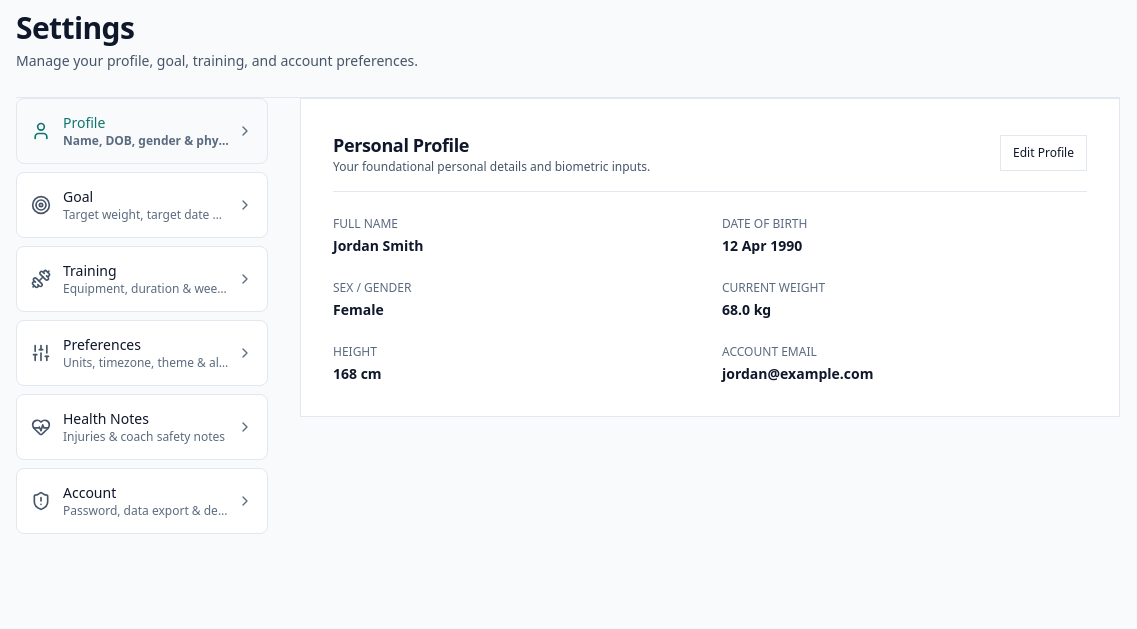
Test: Milestone M9 — Rebuilt Settings Screen (/settings) › navigates to Goal section, validates goal direction and pace, and saves goal update
This screenshot has width=1137, height=629.
expect the text "12 Apr 1990" is shown: met, box [722,236,802,255]
// Switch to Goal tab
Click the button "Goal Target weight, target date & pace": coordinates (142, 205) [16,172,268,238]
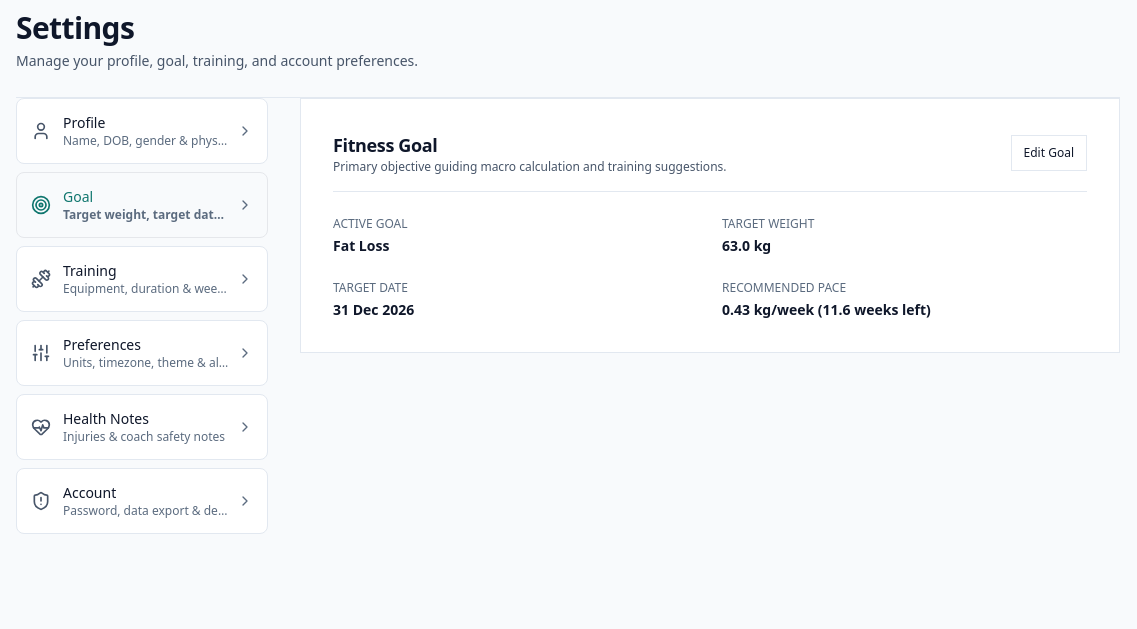
expect the heading "Fitness Goal" is shown: met, box [333,133,437,157]
expect the text "63.0 kg" is shown: met, box [722,236,771,255]
// Edit Goal
Click the button "Edit Goal": coordinates (1049, 153) [1011,135,1087,171]
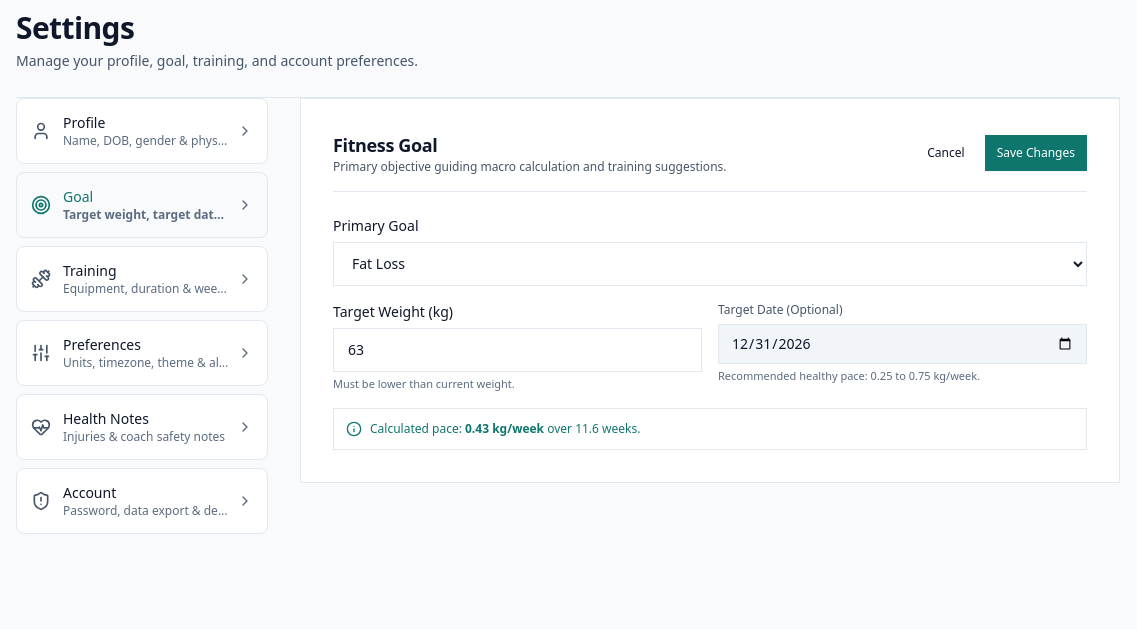
Replace the text in the number field labelled "Target Weight (kg)" with "75": coordinates (518, 350) [333,328,702,372]
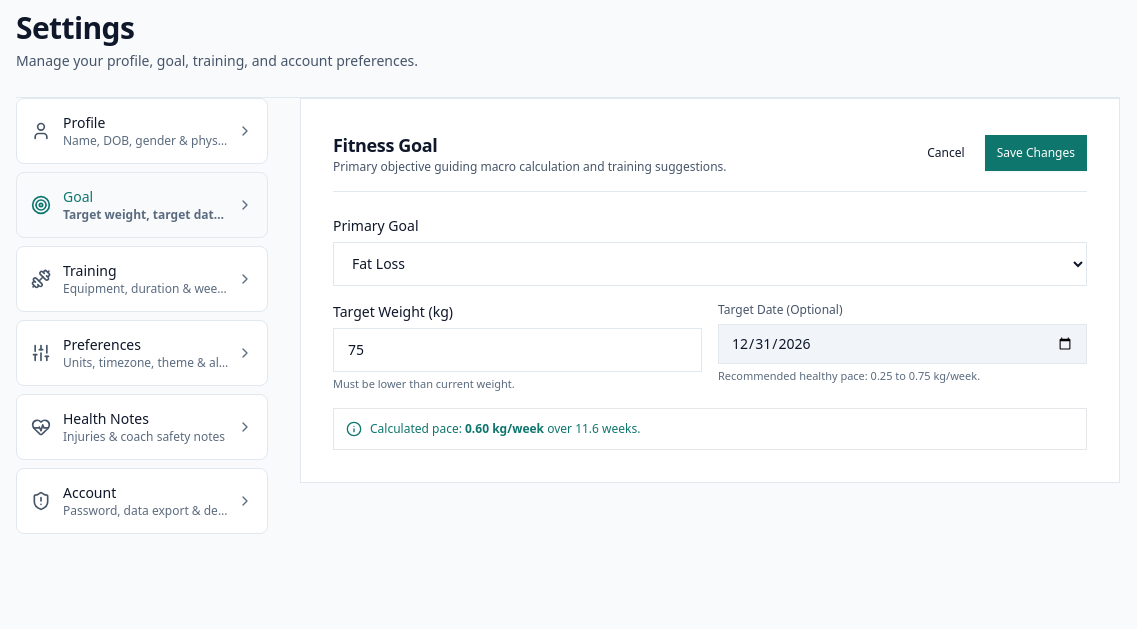
Click the button "Save Changes": coordinates (1036, 153) [985,135,1087,171]
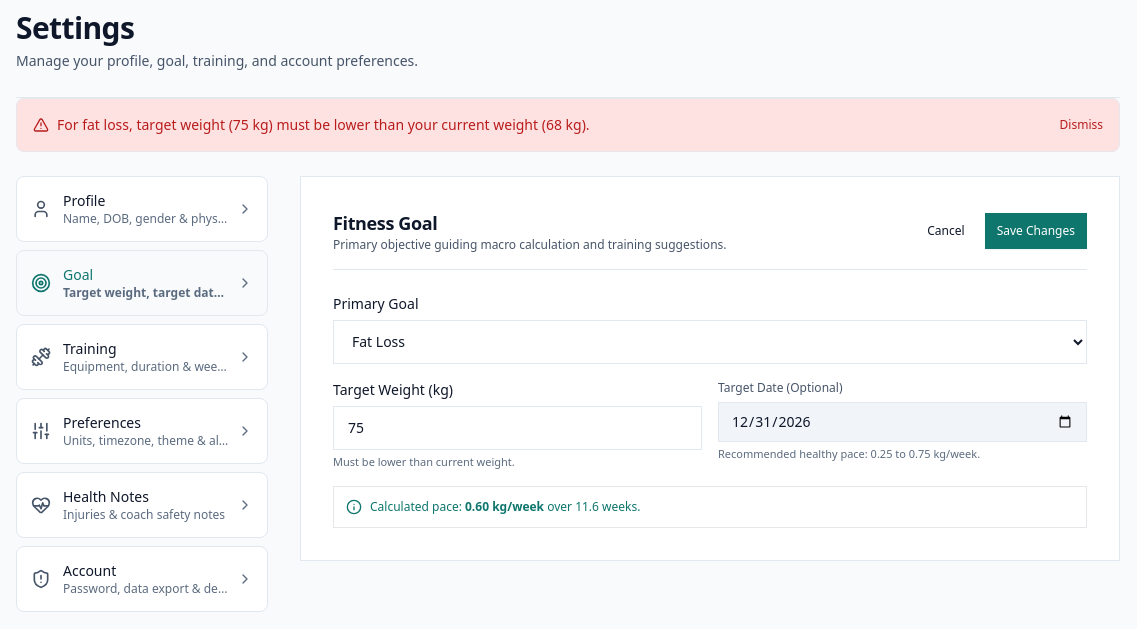
expect the text "must be lower than your current weight" is shown: met, box [57,115,590,134]
// Fix target weight to valid (62 kg)
Replace the text in the number field labelled "Target Weight (kg)" with "62": coordinates (518, 428) [333,406,702,450]
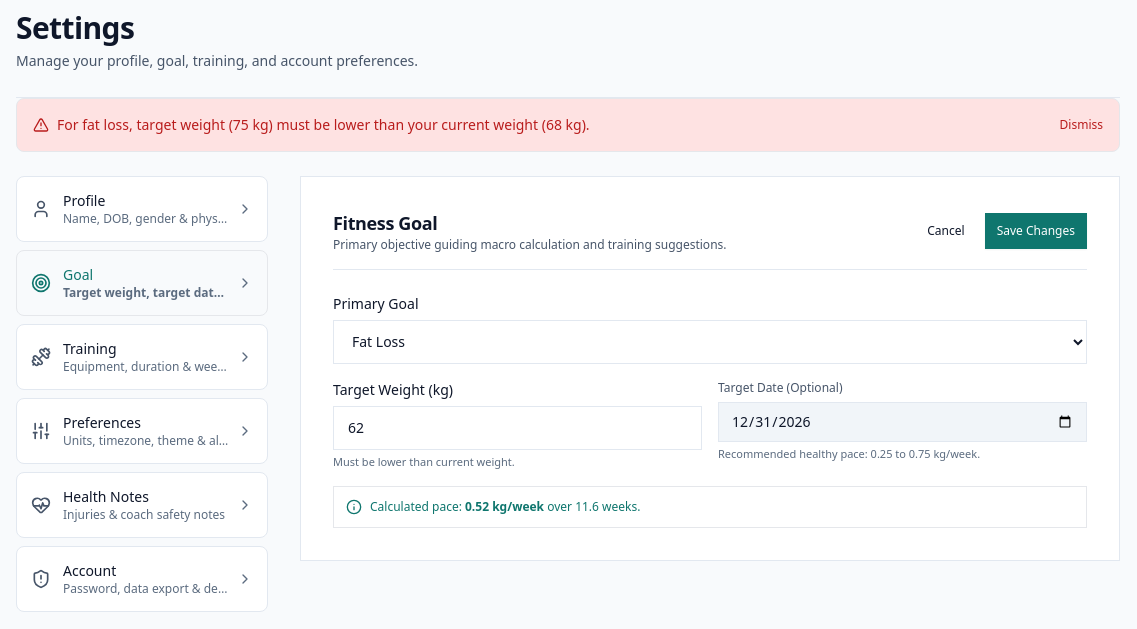
Click the button "Save Changes": coordinates (1036, 231) [985,213,1087,249]
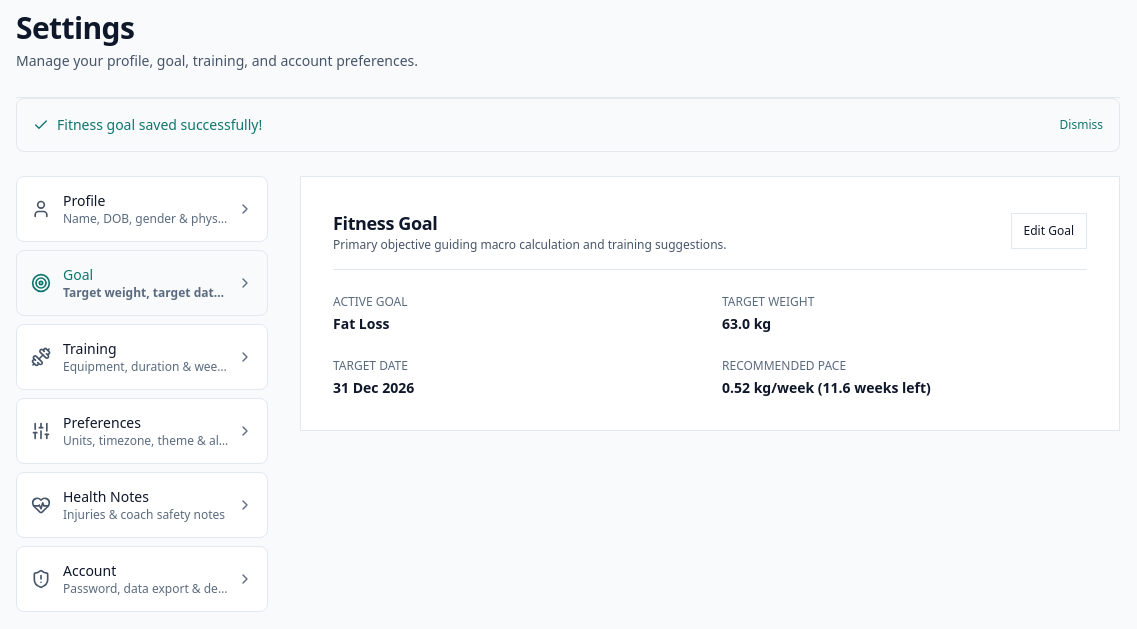
expect the text "Fitness goal saved successfully!" is shown: met, box [57,115,262,135]
